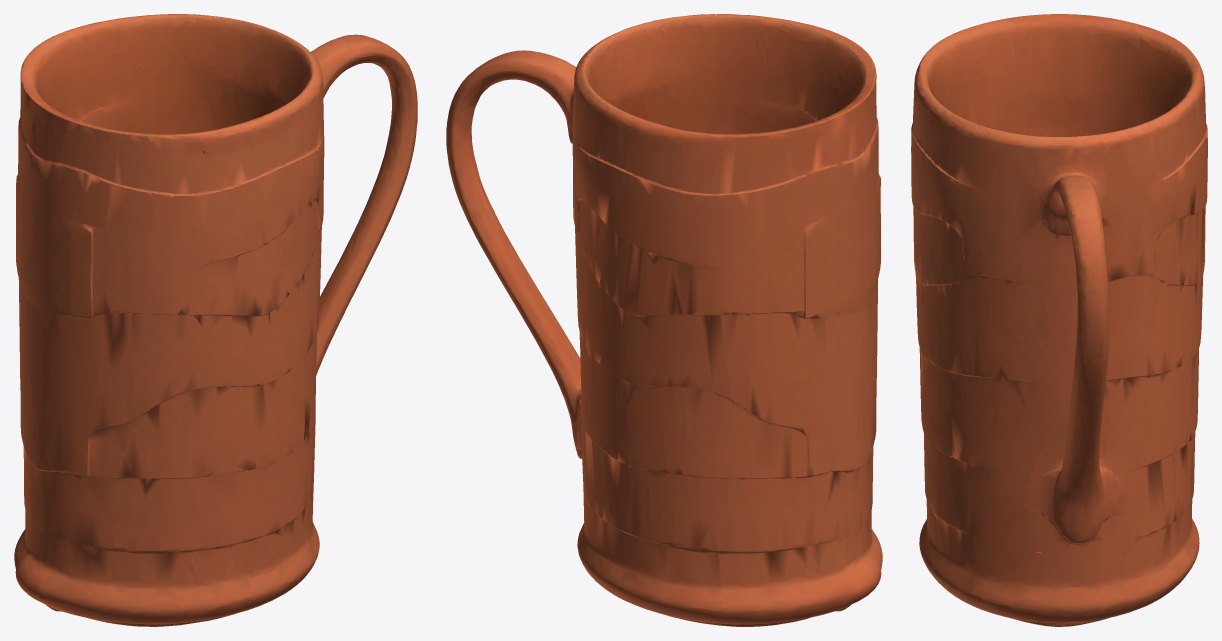
The model's file is kitchen-mug-08.glb.
3 views of the same model, side by side, from view 1: azimuth 30°, elevation 25°; view 2: azimuth 150°, elevation 25°; view 3: azimuth 270°, elevation 25° (orthographic).
Size of the model in its own units: 1.6 by 1.9 by 1.03.
1 material, 1 textured.
